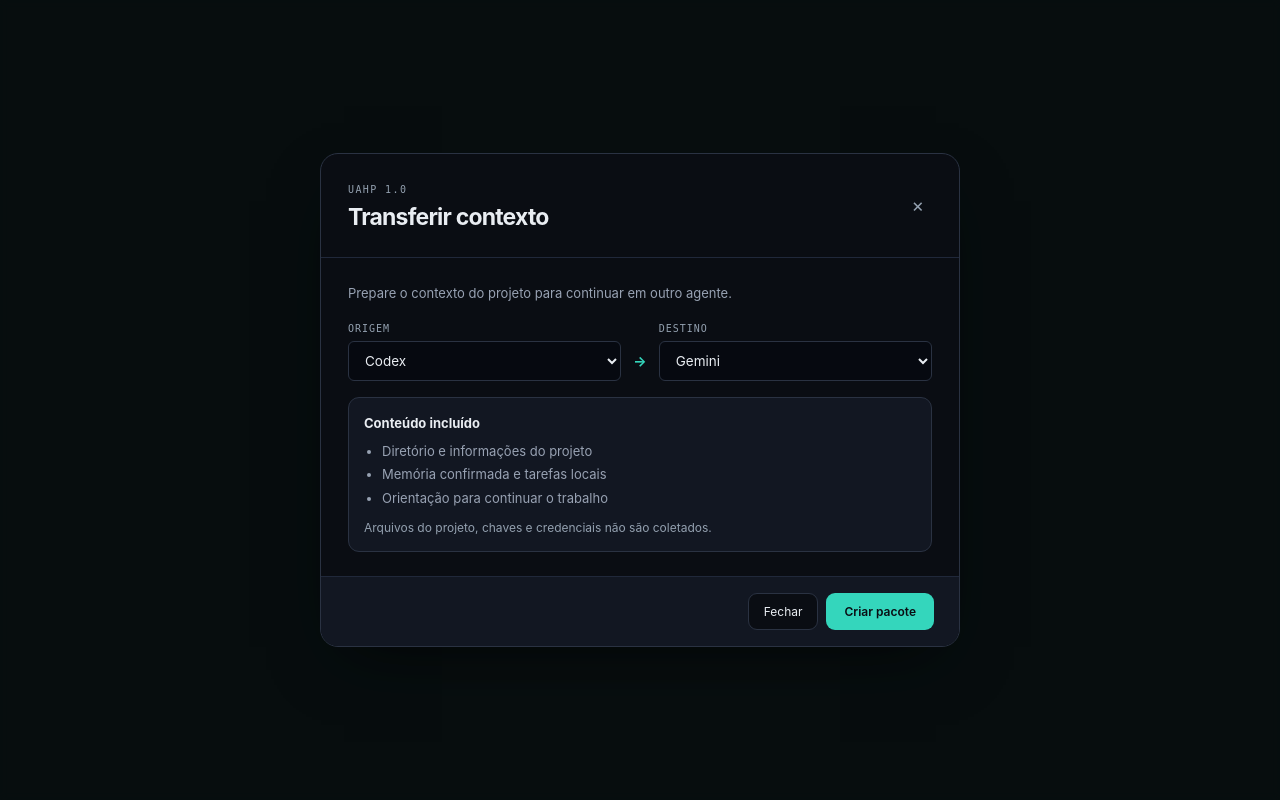
Test case: transferência explícita › bloqueia pacote sem dois agentes e invalida a prévia ao mudar a rota
Later steps or results of the test are not shown.
Click the button "Criar pacote" at {"x": 880, "y": 612}, box [826, 593, 934, 630]
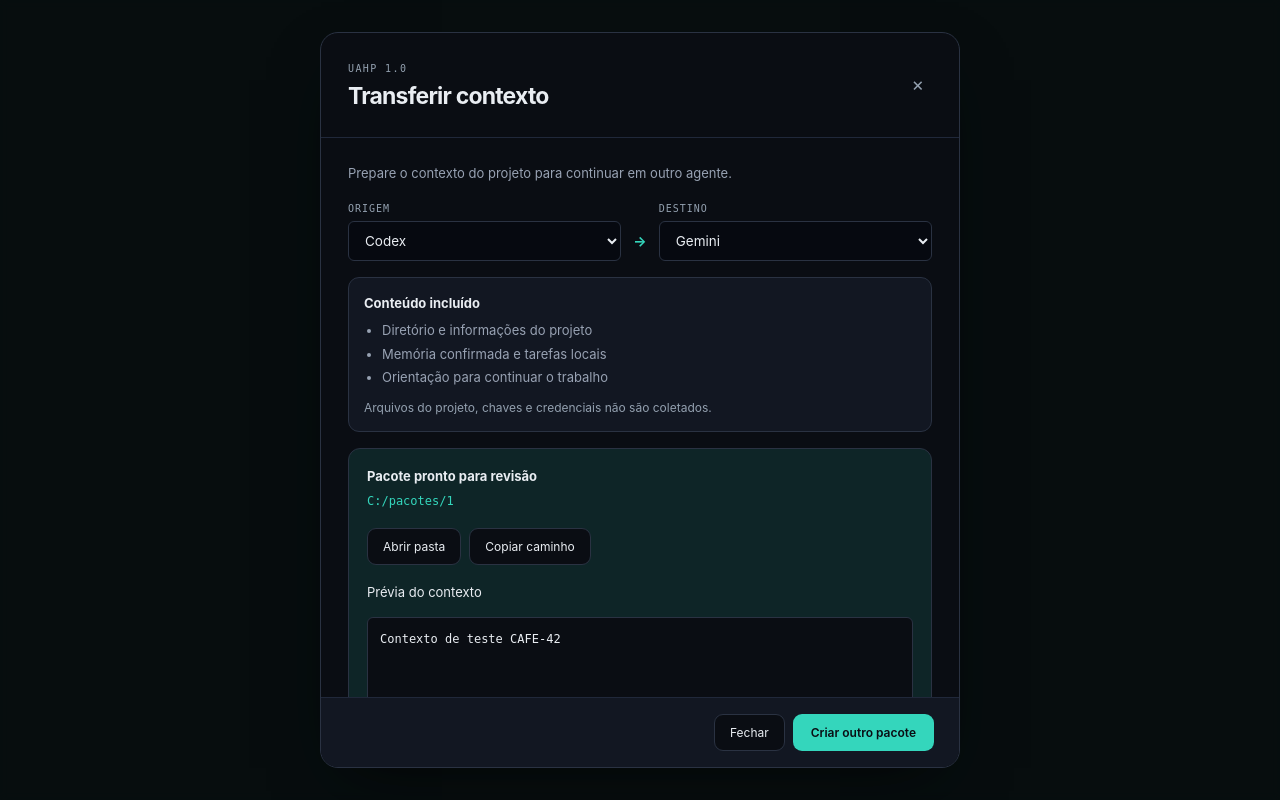
Select "Codex" in the dropdown labelled "Destino" at {"x": 795, "y": 241}, box [659, 221, 932, 261]
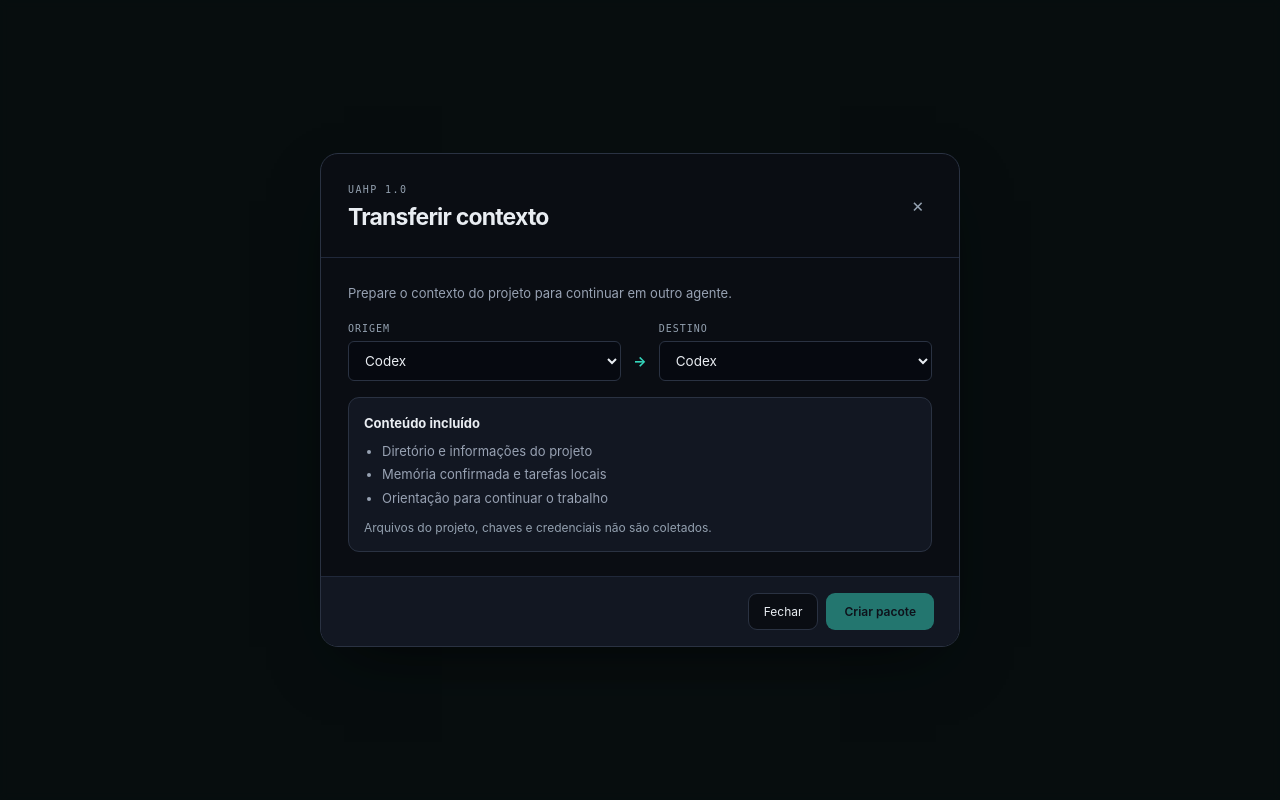
expect the button "Criar pacote" is disabled: met, box [826, 593, 934, 630]
